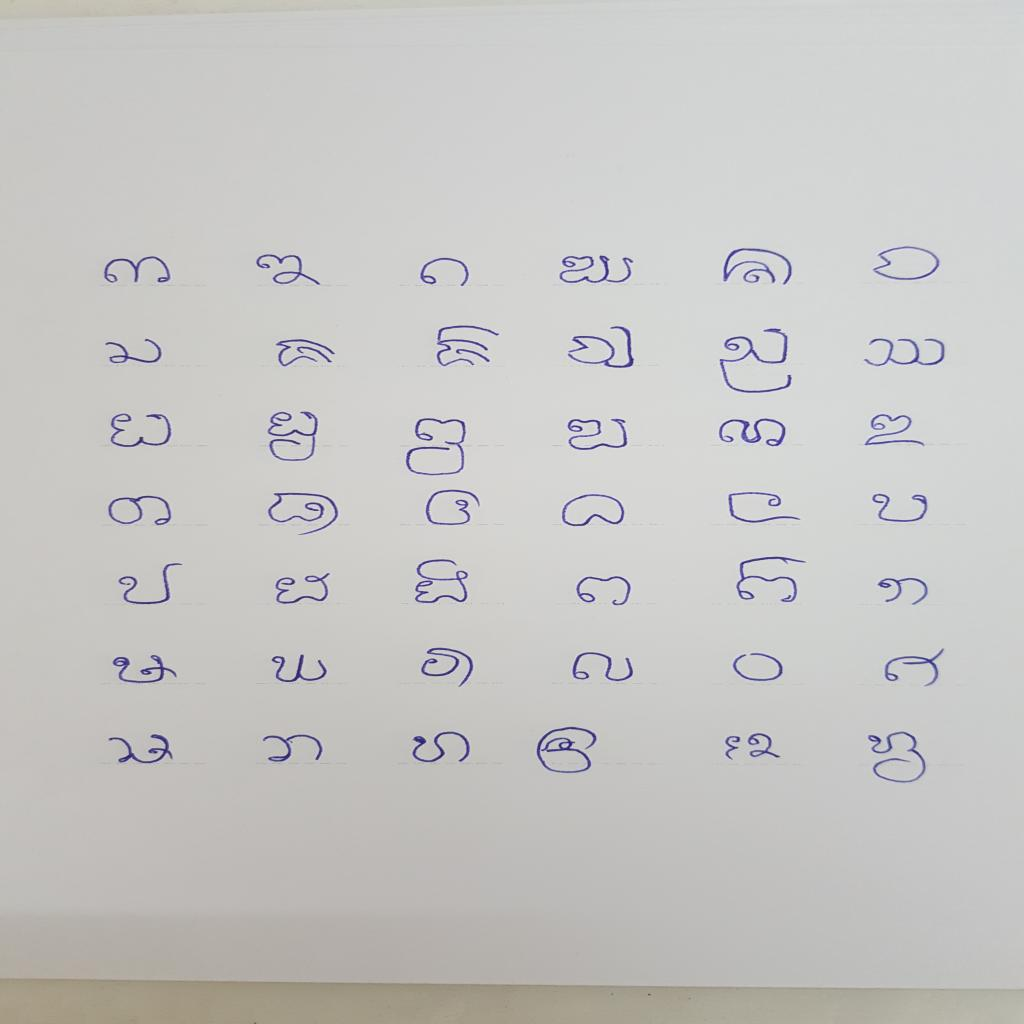LN001: (96, 254, 179, 288)
LN002: (251, 250, 330, 291)
LN003: (414, 255, 477, 292)
LN004: (553, 253, 642, 289)
LN006: (865, 243, 949, 286)
LN007: (100, 336, 170, 369)
LN008: (268, 335, 342, 373)
LN009: (428, 321, 508, 372)
LN010: (561, 323, 643, 374)
LN012: (857, 335, 954, 371)
LN013: (103, 410, 181, 452)
LN014: (260, 408, 327, 466)
LN015: (399, 416, 474, 481)
LN016: (560, 415, 637, 455)
LN018: (859, 412, 935, 452)
LN019: (103, 493, 179, 531)
LN020: (260, 488, 347, 541)
LN021: (419, 487, 489, 531)
LN022: (555, 491, 632, 531)
LN023: (722, 489, 811, 528)
LN024: (866, 490, 938, 526)
LN025: (113, 560, 192, 610)
LN026: (268, 569, 339, 608)
LN027: (407, 556, 477, 610)
LN028: (571, 573, 638, 611)
LN029: (730, 553, 815, 609)
LN030: (873, 574, 937, 611)
LN031: (105, 651, 187, 688)
LN032: (264, 651, 336, 687)
LN033: (413, 644, 481, 693)
LN034: (566, 649, 643, 687)
LN035: (725, 649, 791, 686)
LN036: (878, 645, 952, 692)
LN037: (99, 731, 184, 770)
LN038: (254, 731, 329, 768)
LN039: (406, 728, 480, 768)
LN042: (860, 729, 934, 788)
